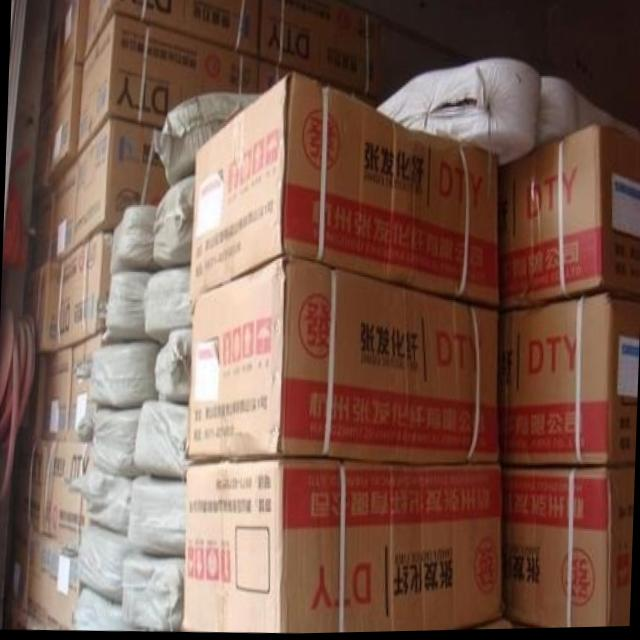box: (189, 73, 498, 312), (185, 255, 499, 462), (184, 456, 500, 633), (497, 126, 640, 312), (77, 15, 261, 153), (498, 296, 639, 468), (499, 468, 633, 630), (71, 120, 171, 250), (258, 0, 382, 100), (81, 0, 262, 64), (55, 231, 114, 348), (260, 58, 380, 109), (40, 437, 92, 541), (28, 531, 79, 628), (49, 62, 82, 184), (66, 331, 102, 441), (24, 255, 59, 352), (12, 437, 47, 532), (49, 152, 78, 259), (41, 343, 73, 438), (56, 0, 89, 91), (18, 350, 48, 438), (5, 526, 34, 610), (1, 599, 70, 628)
